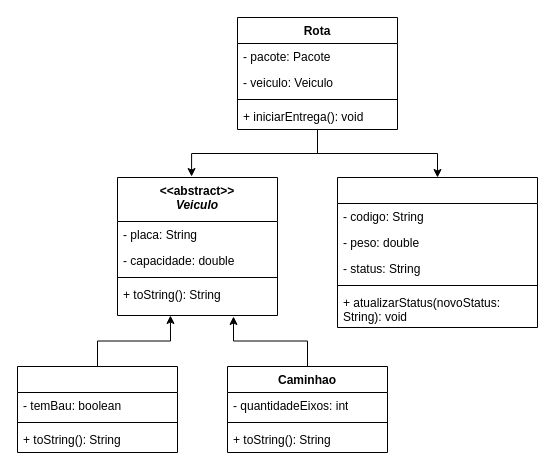
This 555x473 diagram has some shape labels left out. Each missing label, with the box of its shape:
Moto: (16, 366, 178, 452)
Pacote: (336, 176, 538, 328)
